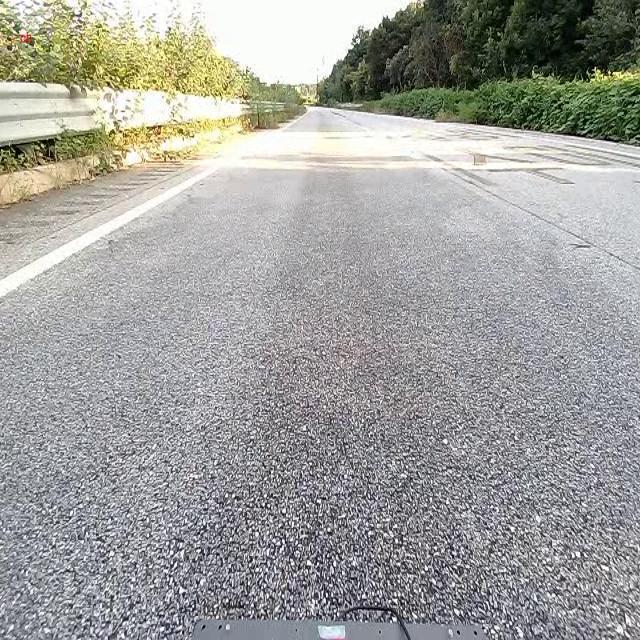Lane: (0, 148, 232, 298), (0, 159, 226, 299)
